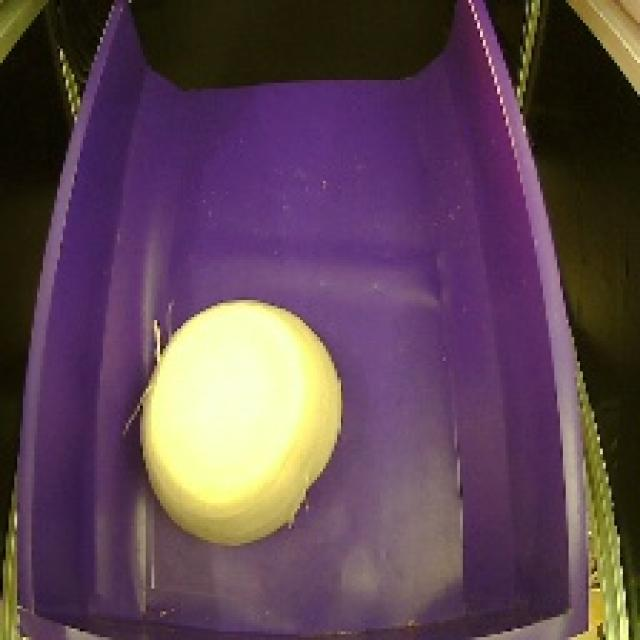white_radish: (121, 284, 352, 546)
